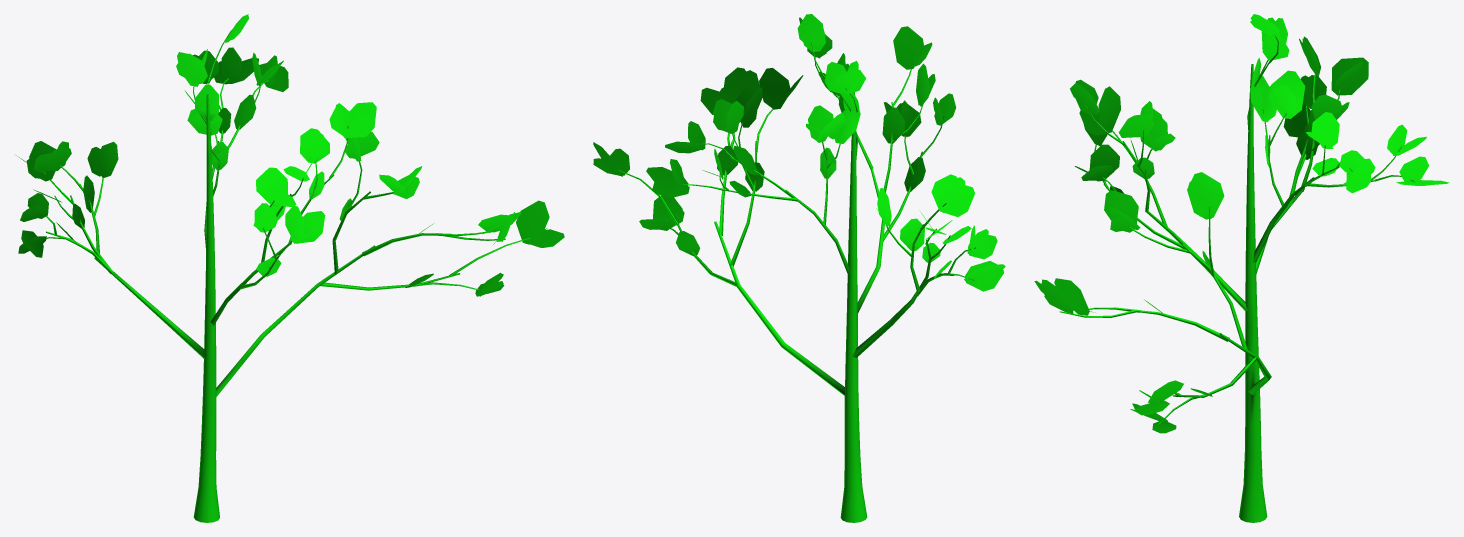
The model's file is tree_maple_a.glb.
3 renders of one model, left to right at view 1: azimuth 30°, elevation 25°; view 2: azimuth 150°, elevation 25°; view 3: azimuth 270°, elevation 25°, orthographic. The views are drawn at different scales.
Parts seen in each view (by area): view 1: tree_maple_a.1, tree_maple_a.0; view 2: tree_maple_a.1, tree_maple_a.0; view 3: tree_maple_a.1, tree_maple_a.0.
Part boxes in pixels (bbox=[...]): tree_maple_a.1: bbox=[16, 14, 564, 296]; tree_maple_a.0: bbox=[43, 31, 529, 522]; tree_maple_a.1: bbox=[593, 14, 1005, 291]; tree_maple_a.0: bbox=[618, 41, 975, 522]; tree_maple_a.1: bbox=[1034, 14, 1449, 433]; tree_maple_a.0: bbox=[1059, 36, 1414, 522].
Size of the model in its own units: 15.43 by 15.21 by 10.91.
